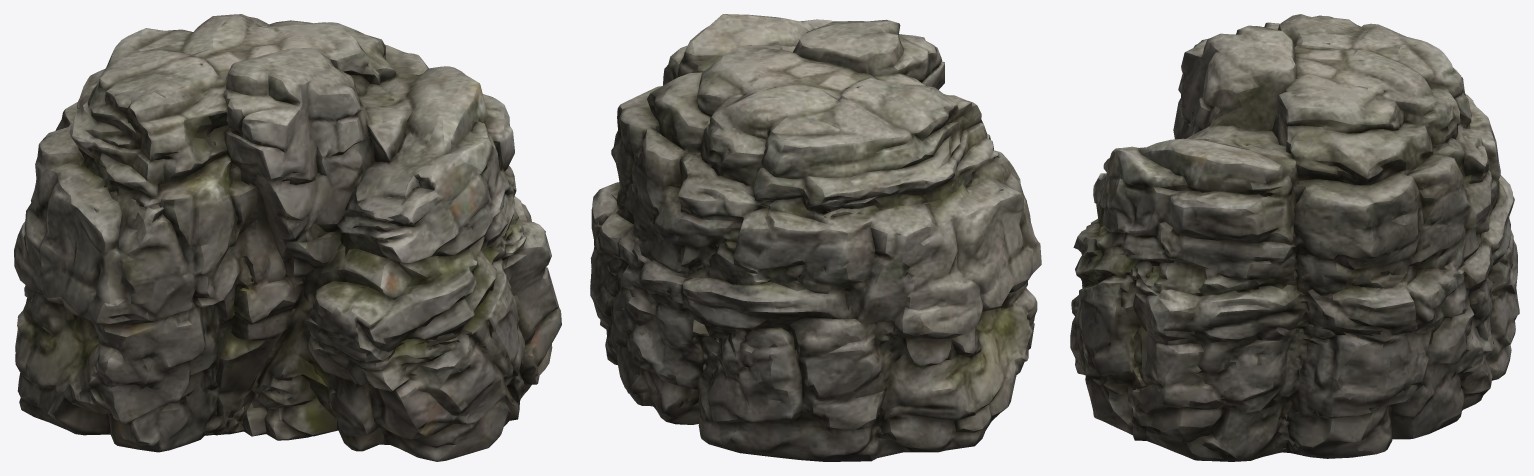
Rendered from ENV-001.glb.
3 renders of one model, left to right at view 1: azimuth 30°, elevation 25°; view 2: azimuth 150°, elevation 25°; view 3: azimuth 270°, elevation 25°, orthographic. The views are drawn at different scales.
Visible parts, largest first — view 1: world; view 2: world; view 3: world.
Part boxes in pixels (left/top/right/bottom): world: left=14, top=14, right=561, bottom=461; world: left=590, top=14, right=1041, bottom=461; world: left=1070, top=14, right=1519, bottom=461.
Size of the model in its own units: 0.4494 by 0.3516 by 0.4434.
1 material, 1 textured.
